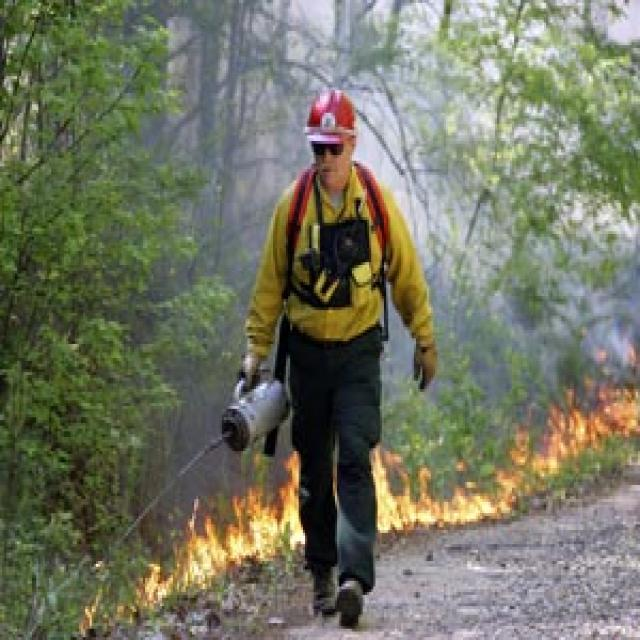Fire: (369, 344, 640, 538), (136, 447, 310, 613), (80, 582, 118, 638)
